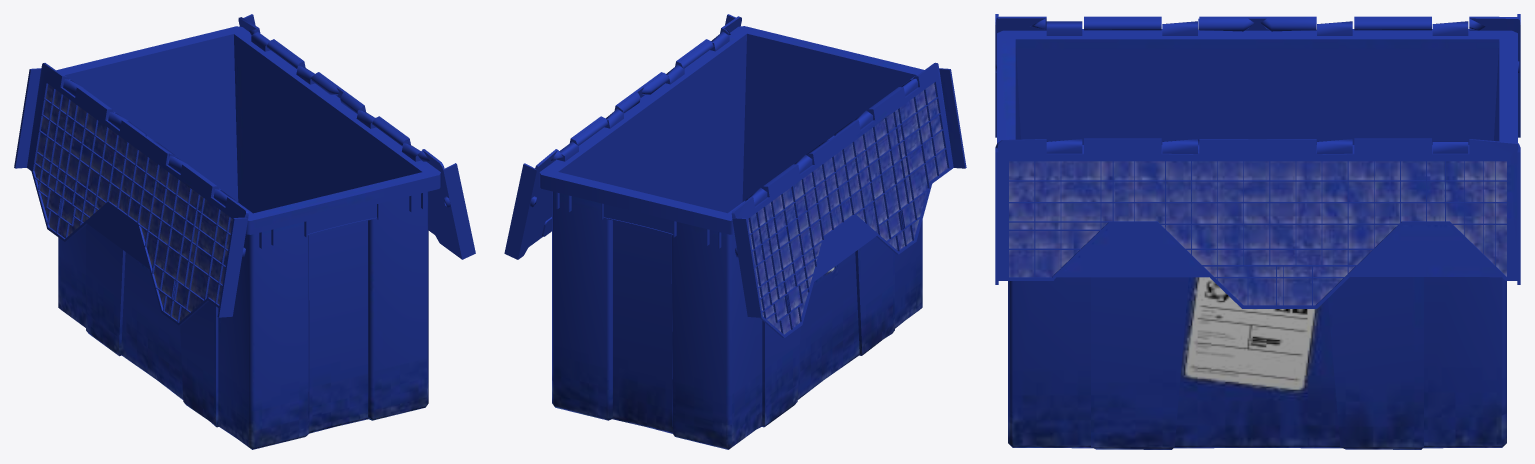
File: industrial_pastic_container.slim.glb
3 views of the same model, side by side, from view 1: azimuth 30°, elevation 25°; view 2: azimuth 150°, elevation 25°; view 3: azimuth 270°, elevation 25° (orthographic). The views are drawn at different scales.
Bounding box in the file's own units: 0.4572 × 0.4188 × 0.6313.
Materials: 1 (1 with a texture image).
